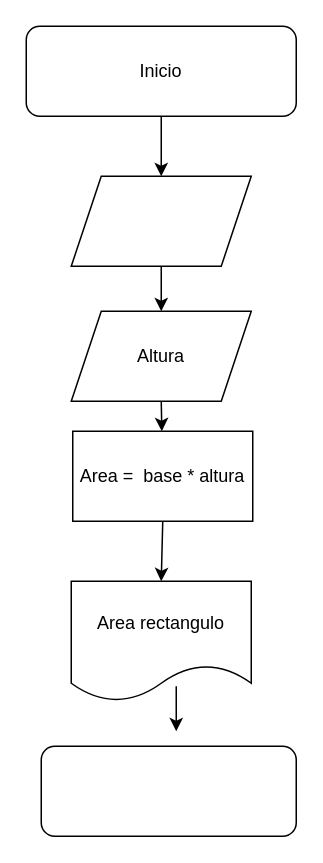
This 323x863 diagram has some shape labels left out. The box of each missing label's shape, as (x1, y1, x2, y2) in pixels:
Base: (70, 175, 251, 266)
Fin: (40, 745, 296, 836)
